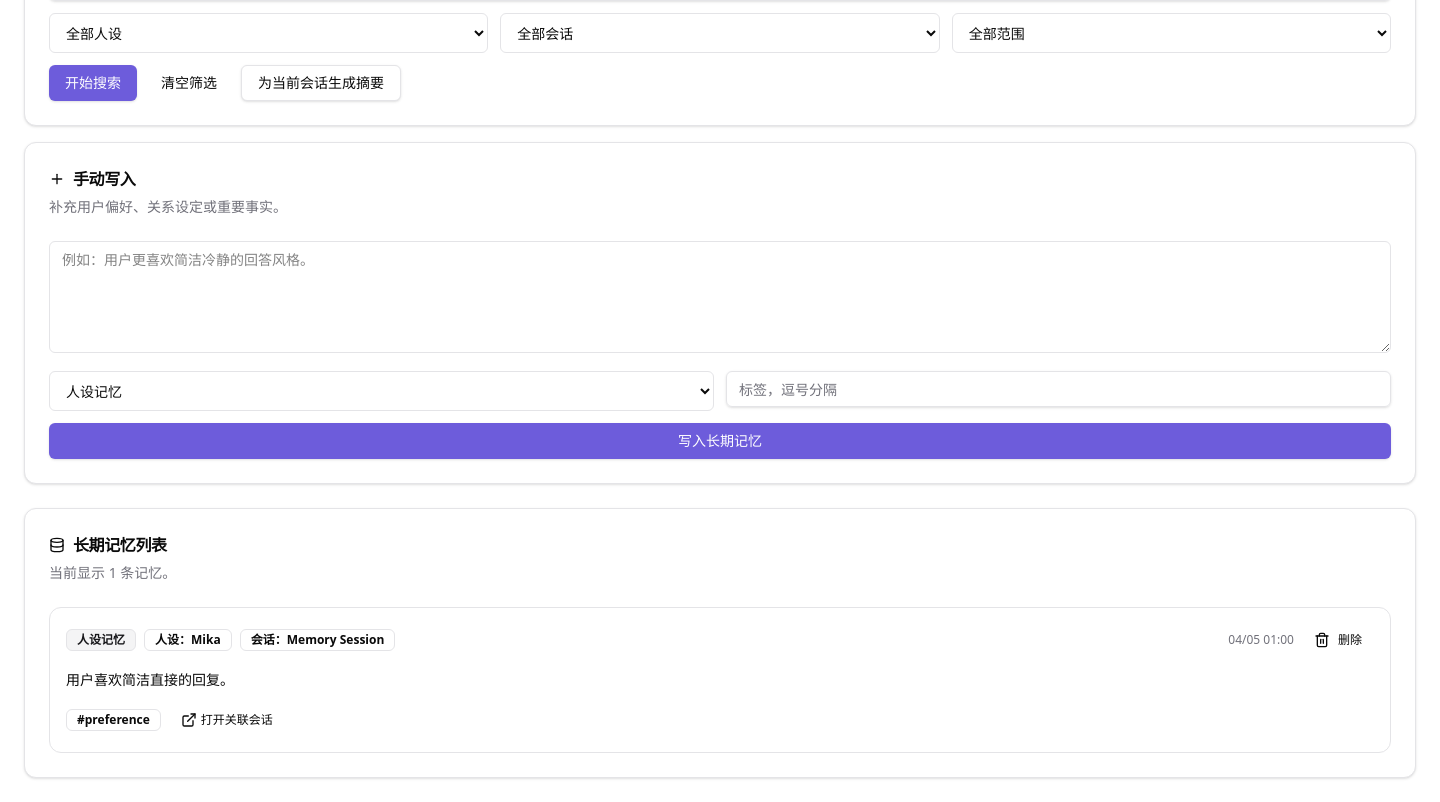
Scenario: MemoryPage › deletes a memory with confirmation and refreshes list
(page scrolled)
expect the text "用户喜欢简洁直接的回复。" is shown: met, box [66,670,234,689]
Step 1. Click the button with aria-label "删除这条记忆" → (1338, 640), box [1302,624,1374,656]
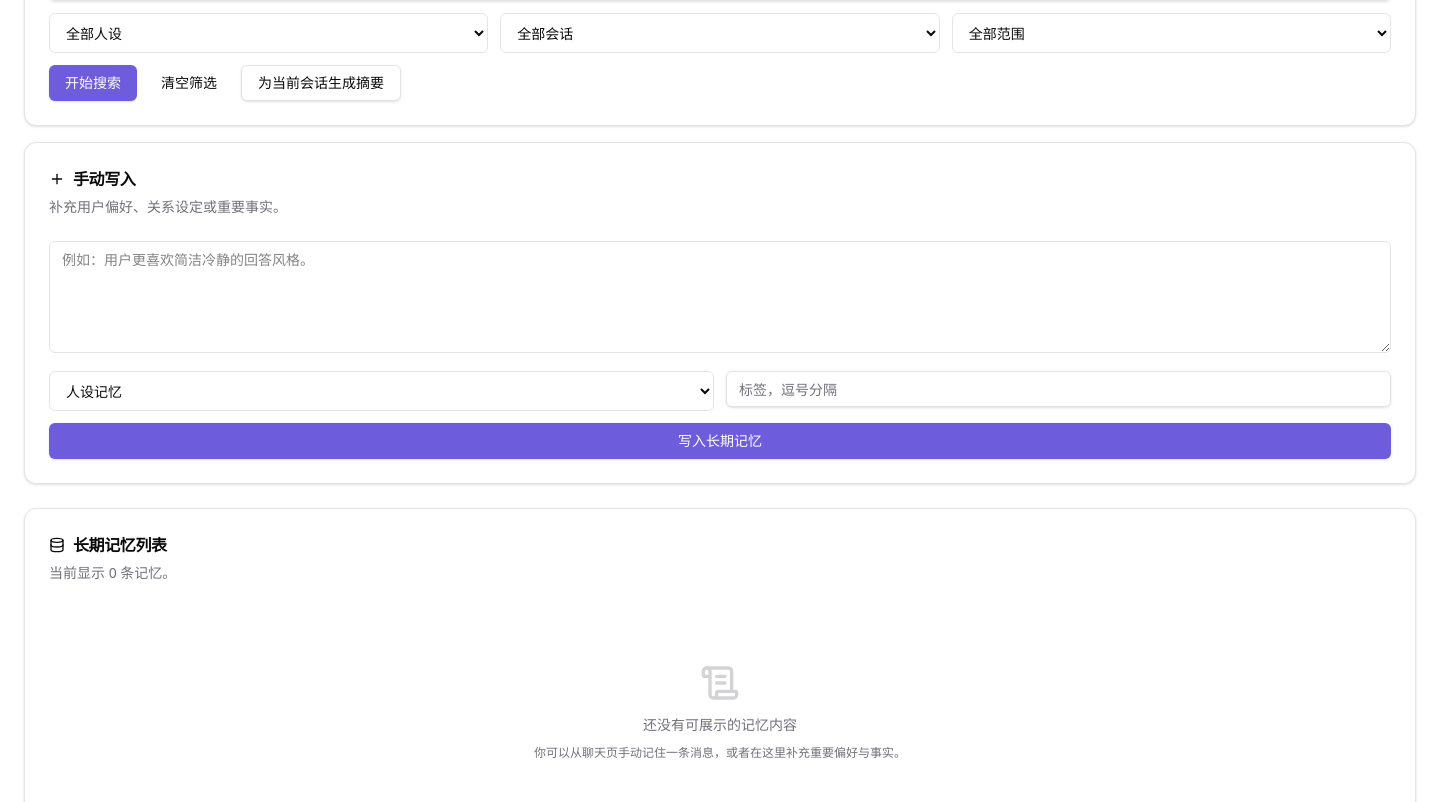
expect the text "用户喜欢简洁直接的回复。" is gone: met
